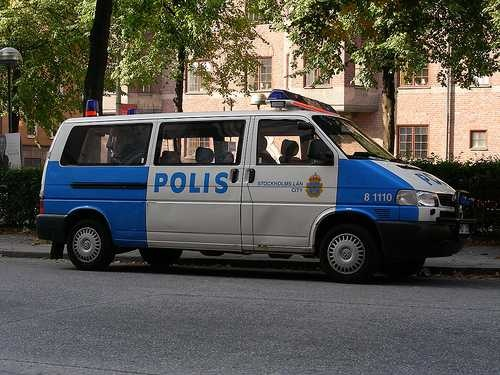Police Van: (36, 85, 469, 291)
